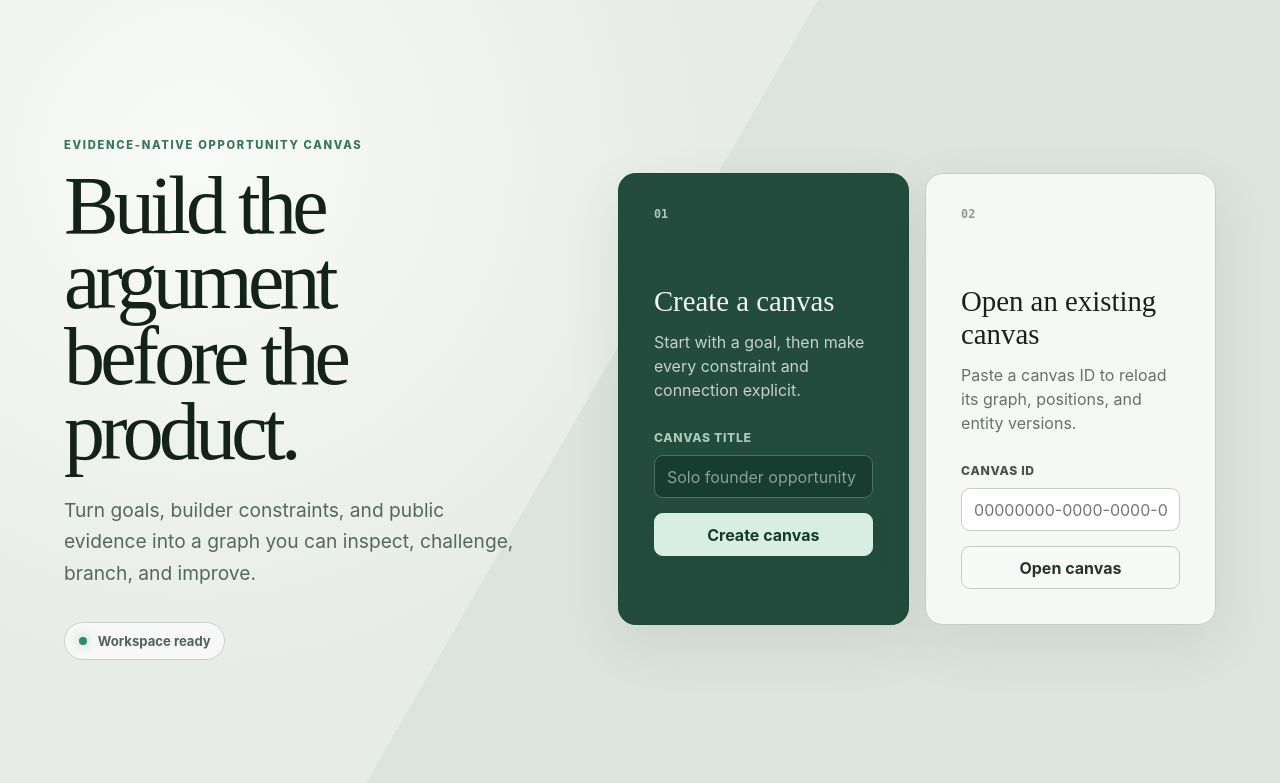
Test: App › edits a constraint into pinned branch scope with a valid root
Expected: the text "Workspace ready" is shown, x1=64 y1=622 x2=225 y2=660
Type "11111111-1111-4111-8111-111111111111" into the field labelled "Canvas ID".
click(1070, 510); type("11111111-1111-4111-8111-111111111111")  # box x1=961 y1=488 x2=1180 y2=531
Click the button "Open canvas".
click(1070, 568)  # box x1=961 y1=546 x2=1180 y2=589
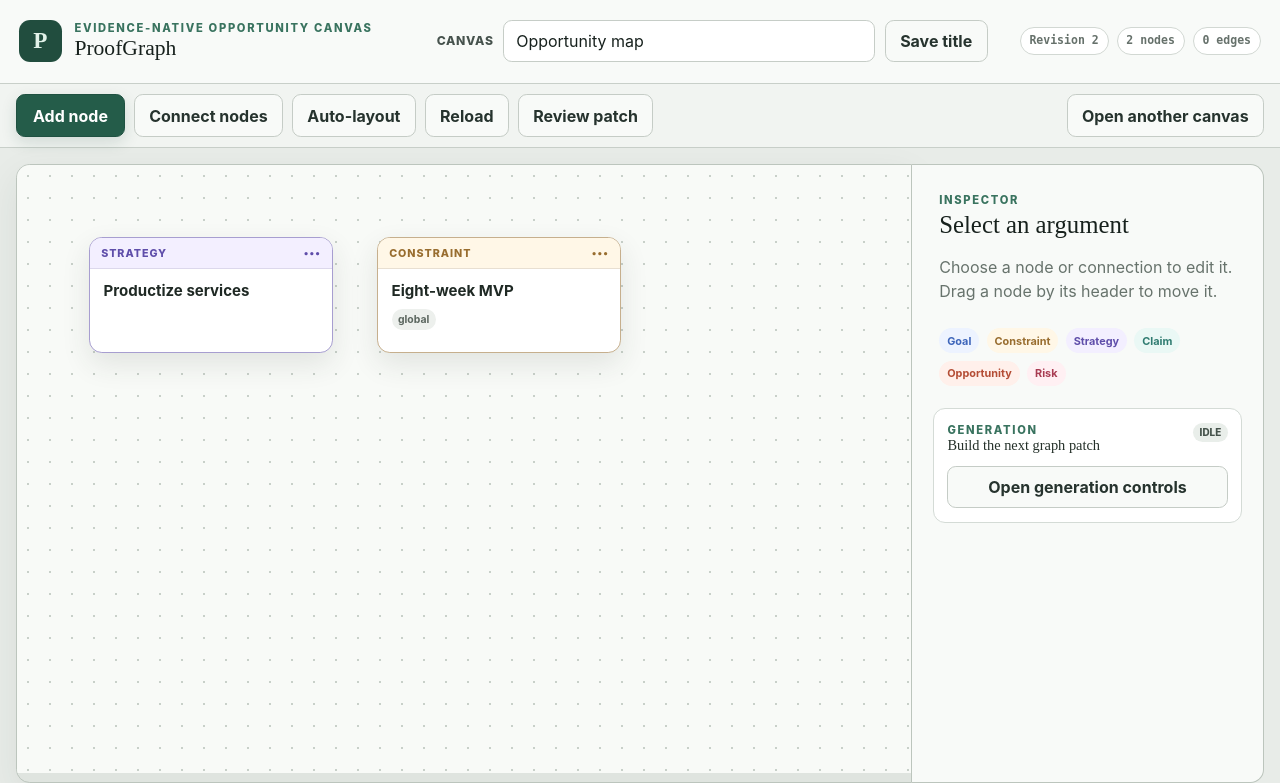
Now the field showing "Opportunity map" is shown, box x1=503 y1=20 x2=875 y2=62
Click the element showing "Constraint ••• Eight-week MVP global".
click(499, 295)  # box x1=377 y1=237 x2=621 y2=353
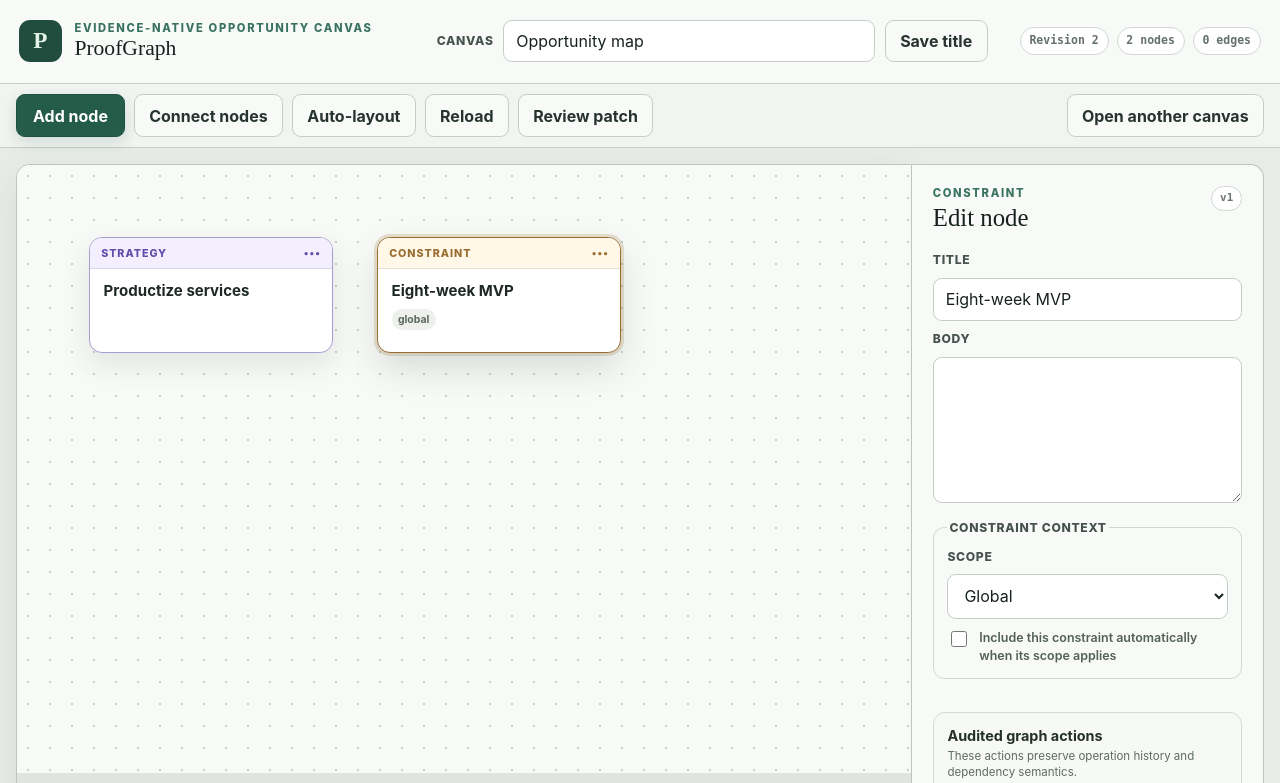
Select "Branch" in the dropdown labelled "Scope" at (1088,596), box x1=947 y1=574 x2=1228 y2=619
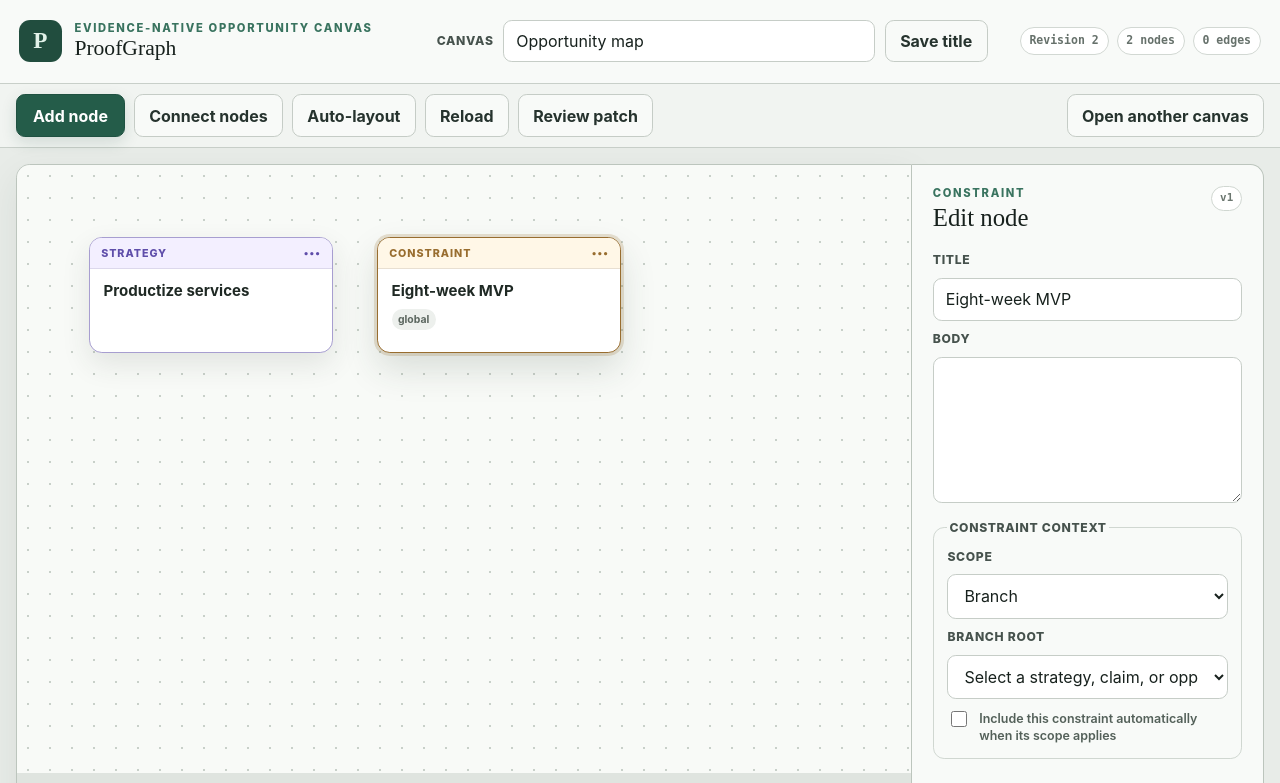
Select "Strategy · Productize services" in the dropdown labelled "Branch root" at (1088,677), box x1=947 y1=655 x2=1228 y2=699
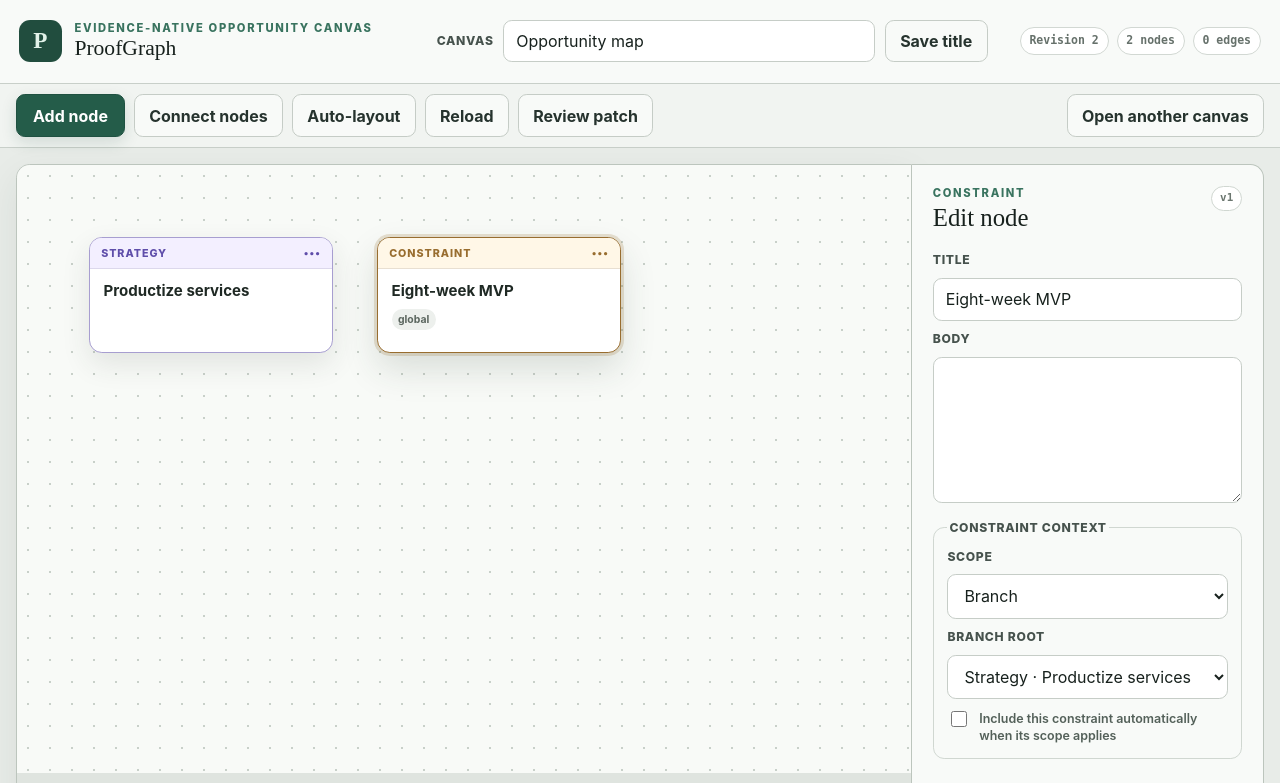
Click the checkbox labelled "Include this constraint automatically when its scope applies".
click(959, 719)  # box x1=951 y1=711 x2=967 y2=727
(page scrolled)
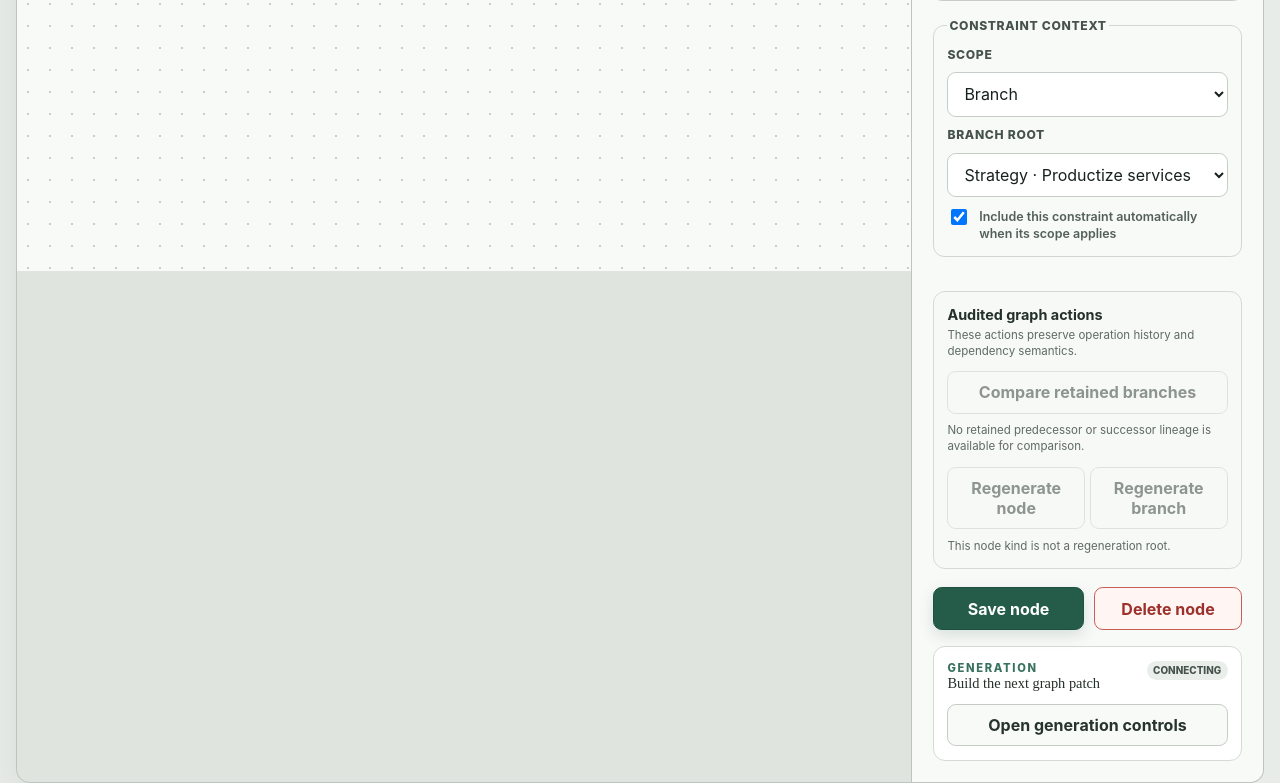
Click the button "Save node".
click(1009, 609)  # box x1=933 y1=587 x2=1084 y2=630
(page scrolled)
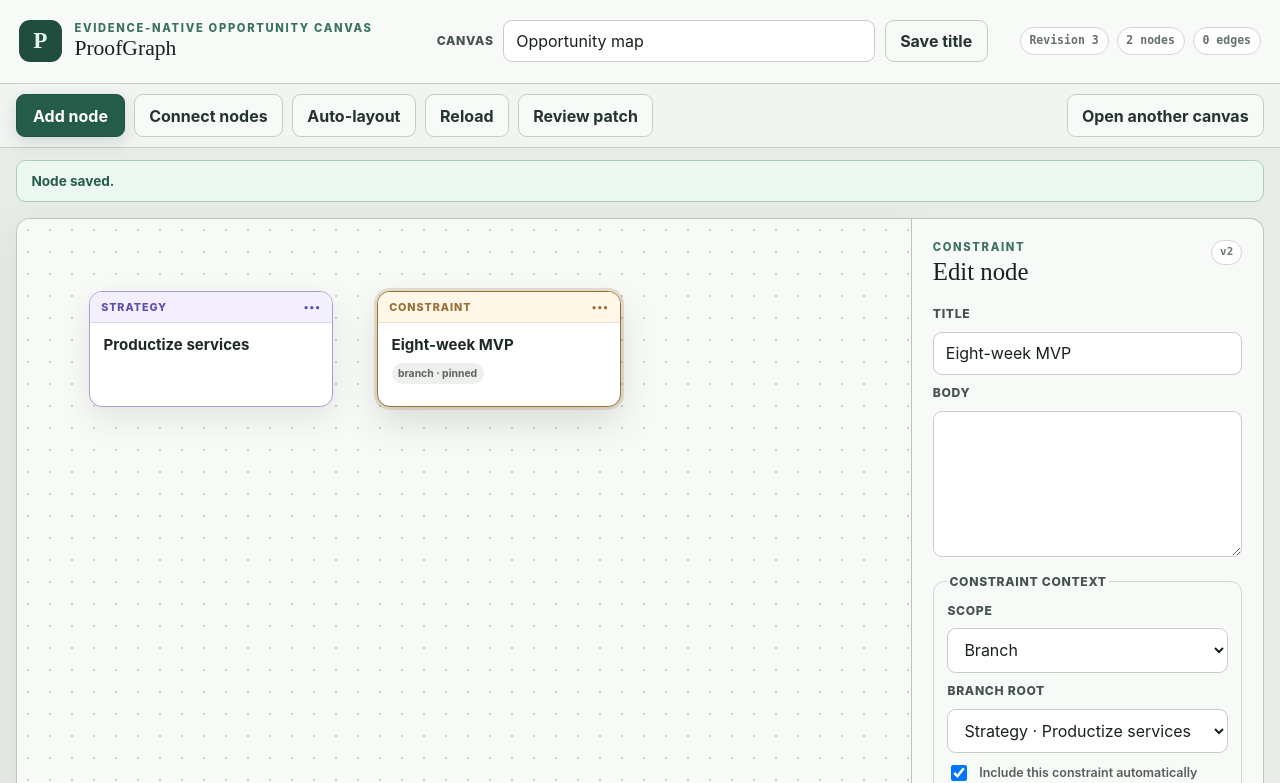
Now the text "Node saved." is shown, box x1=16 y1=160 x2=1264 y2=202
